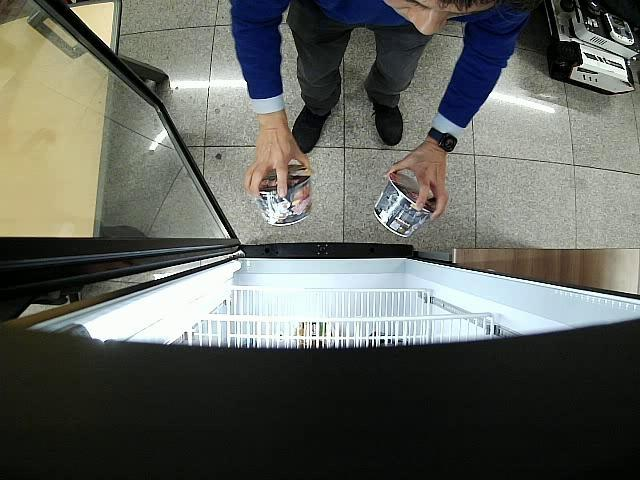07_buldak_L: (374, 173, 436, 237), (258, 166, 310, 226)
